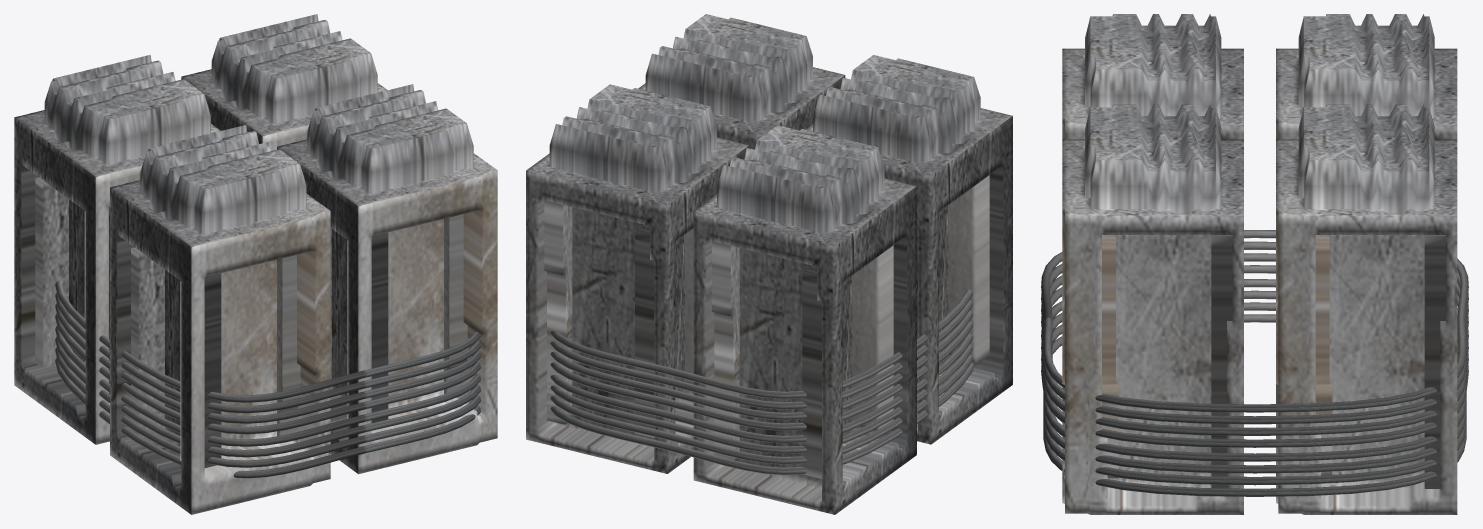
Rendered from pieza13.fbx.
3 views of the same model, side by side, from view 1: azimuth 30°, elevation 25°; view 2: azimuth 150°, elevation 25°; view 3: azimuth 270°, elevation 25° (orthographic). The views are drawn at different scales.
Visible parts, largest first — view 1: BezierCircle.031; view 2: BezierCircle.031; view 3: BezierCircle.031.
Part boxes in pixels (x1,y1,x2,y2): BezierCircle.031: (14,14,497,514); BezierCircle.031: (526,14,1012,514); BezierCircle.031: (1041,14,1468,514).
Bounding box in the file's own units: 212 × 190 × 213.
Materials: 12 (12 with a texture image).
